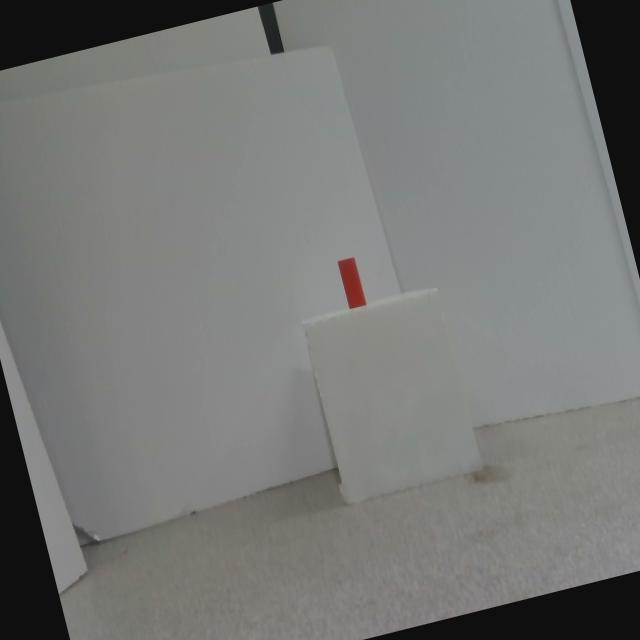red_cylinder: (338, 256, 367, 308)
